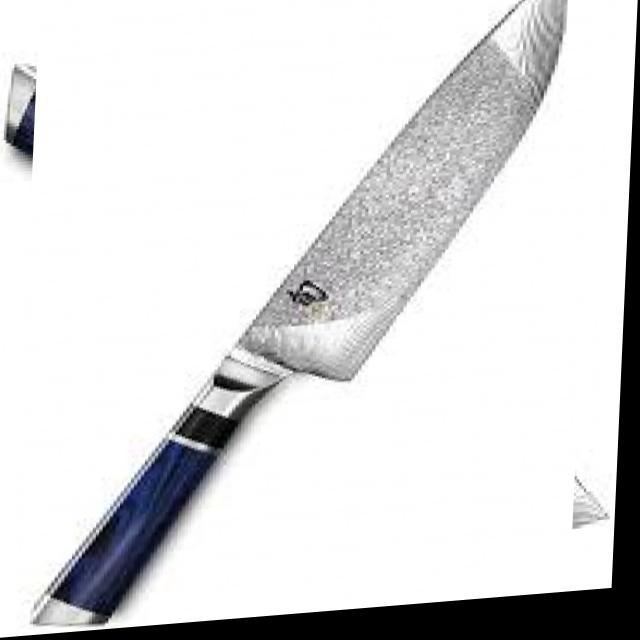knife: (1, 0, 615, 622)
